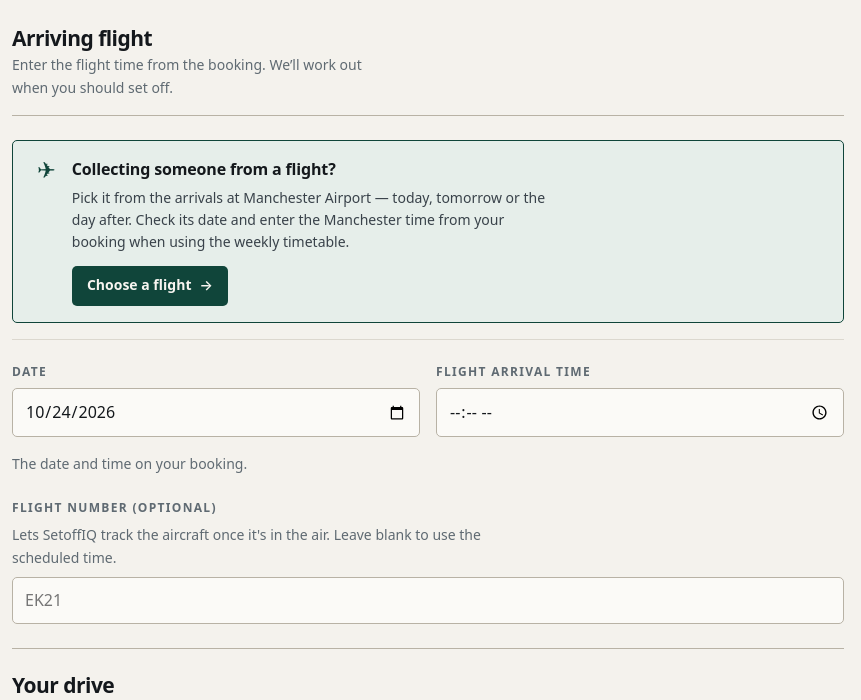
Scenario: details a picked flight and the passenger can settle › fills the terminal from the flight picked, since each terminal has its own road in
What coordinates should you click on to do the following:
click the button "Collecting someone from a flight"
I would click on:
 (428, 231)
Its box is x1=12 y1=140 x2=844 y2=323.
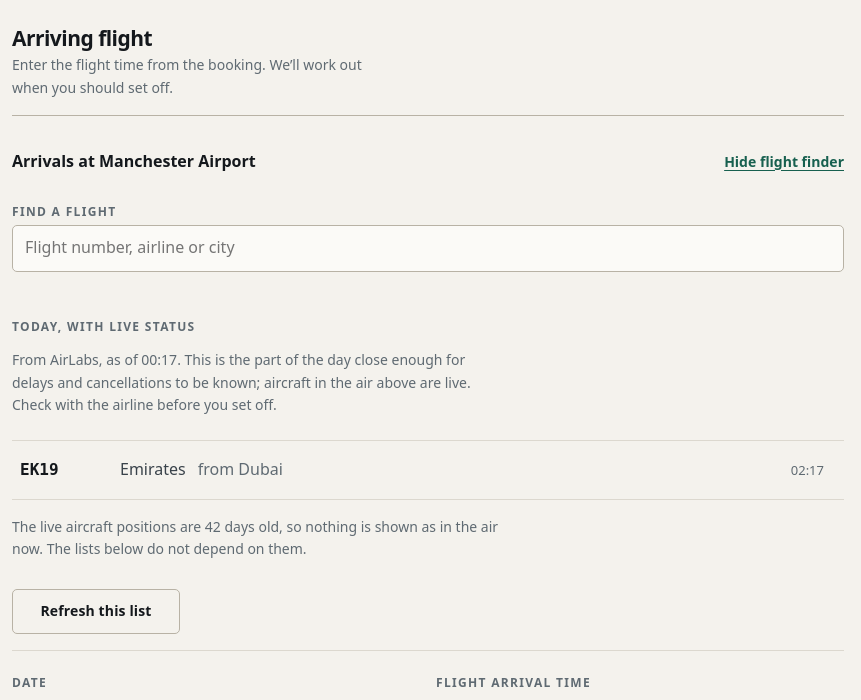
What coordinates should you click on to do the following:
click the button "EK19 Emirates from Dubai 02:17"
I would click on:
 (39, 470)
Its box is x1=12 y1=442 x2=844 y2=500.
(page scrolled)
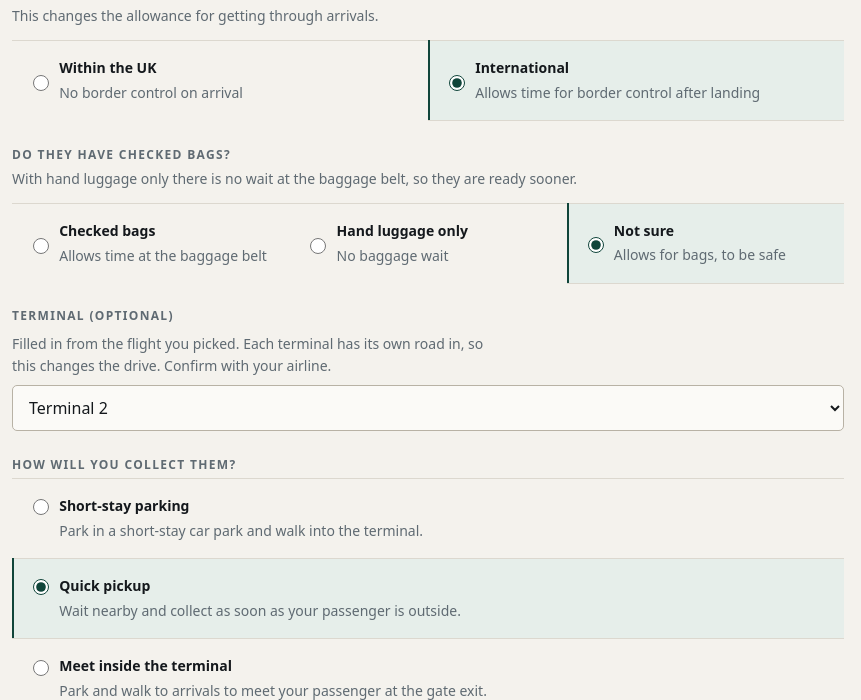
Expected: the dropdown labelled "Terminal (optional)" shows "Terminal 2", x1=12 y1=385 x2=844 y2=431
Expected: the text "Filled in from the flight you picked" is shown, x1=12 y1=334 x2=483 y2=375
